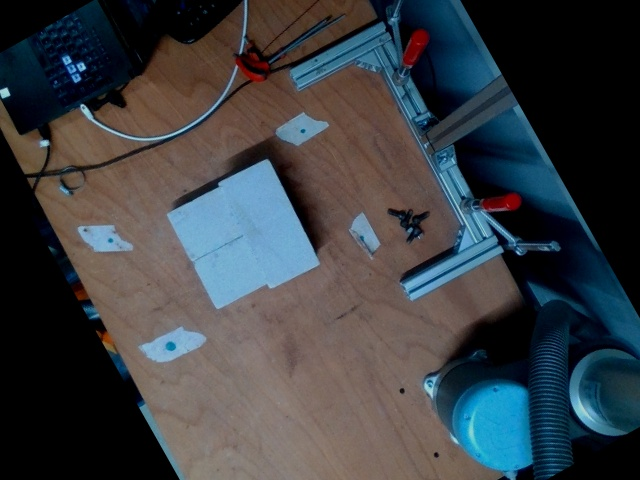brick: (215, 157, 321, 289)
